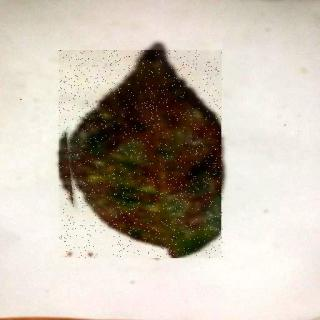Red Leaf Spot: (60, 52, 224, 260)
